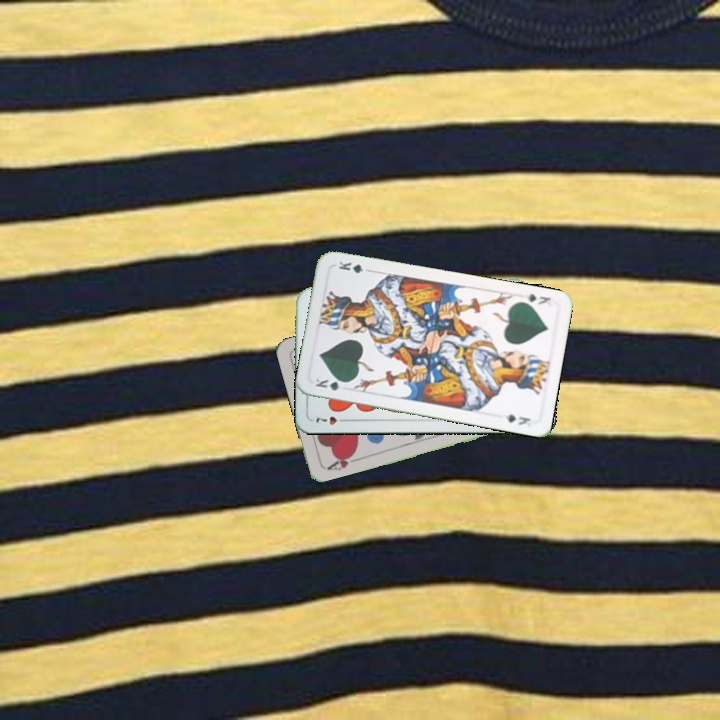GK: (312, 374, 351, 393), (521, 290, 554, 308)
H7: (312, 413, 350, 428)
HA: (323, 448, 362, 473)
